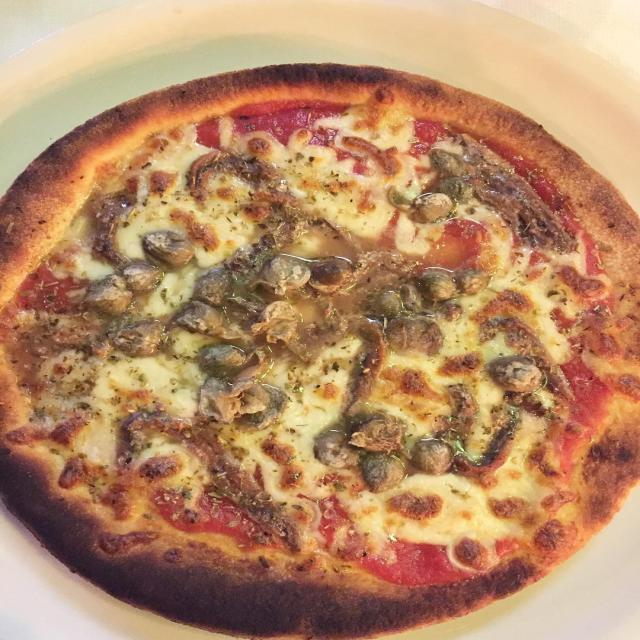pizza: (1, 65, 638, 640)
